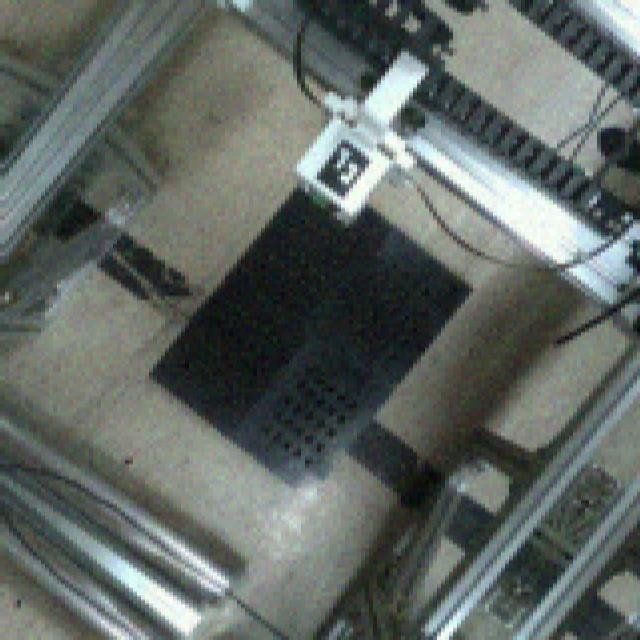pallet: (143, 162, 478, 498)
